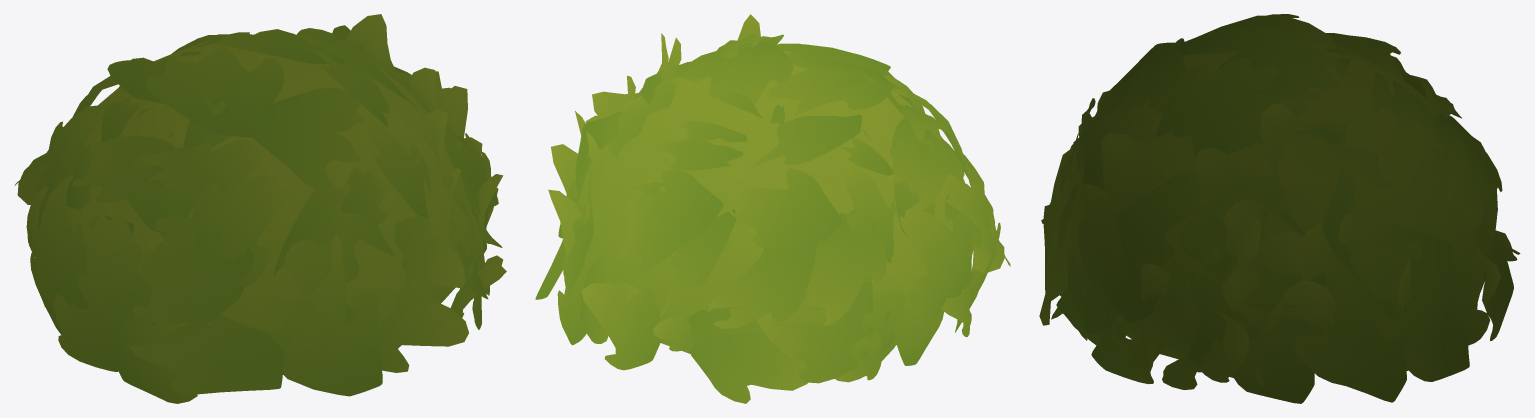
Rendered from MDL_Bush_01.fbx.
3 views of the same model, side by side, from view 1: azimuth 30°, elevation 25°; view 2: azimuth 150°, elevation 25°; view 3: azimuth 270°, elevation 25° (orthographic). The views are drawn at different scales.
Parts seen in each view (by area): view 1: Bush_A; view 2: Bush_A; view 3: Bush_A.
Part boxes in pixels (left/top/right/bottom): Bush_A: left=14, top=14, right=506, bottom=403; Bush_A: left=535, top=14, right=1010, bottom=403; Bush_A: left=1039, top=14, right=1520, bottom=403.
Size of the model in its own units: 96.28 by 61.21 by 92.64.
